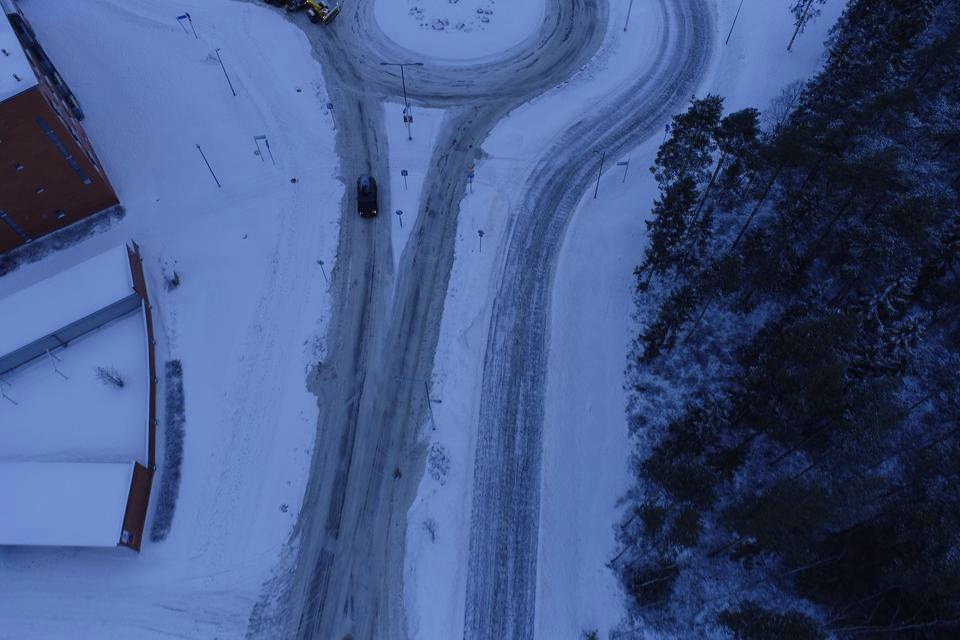roundabout: (263, 0, 733, 196)
